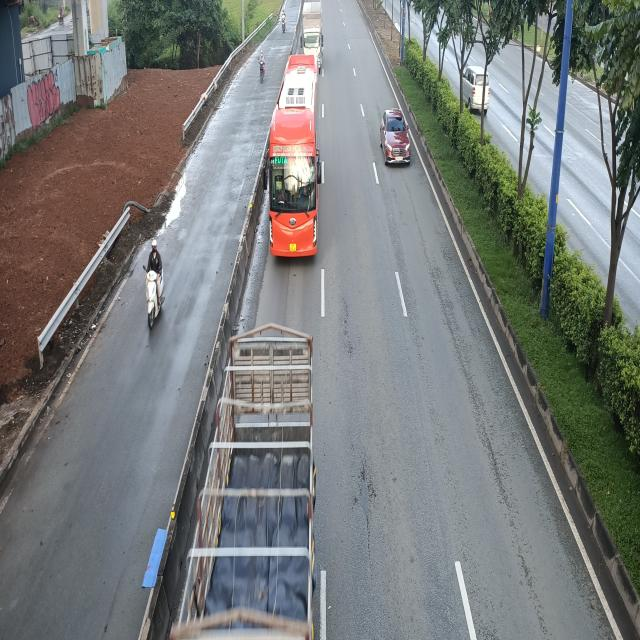car: (379, 109, 411, 167)
coach: (262, 54, 322, 260)
truck: (182, 327, 322, 638), (300, 1, 324, 74)
